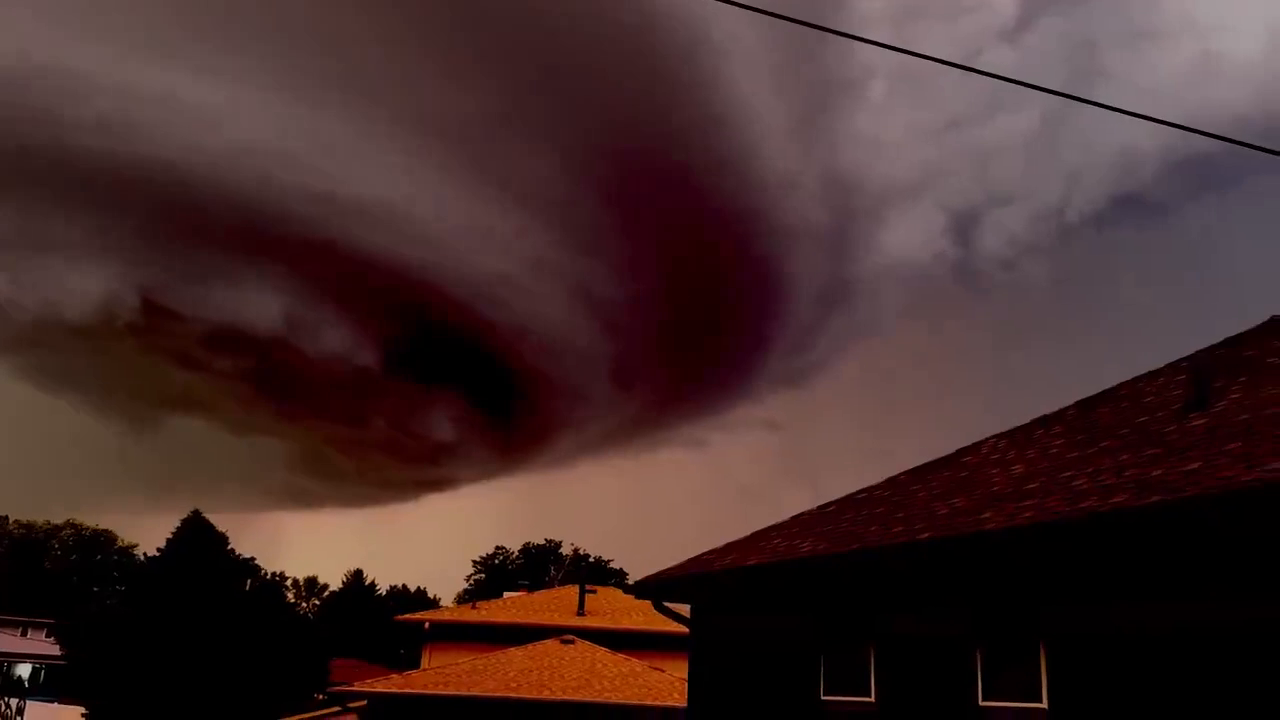FFD: (724, 173, 1278, 545)
RFD: (2, 510, 270, 573)
mesocyclone: (2, 2, 849, 510)
striations: (2, 8, 807, 478)
wall cloud: (2, 261, 473, 508)
